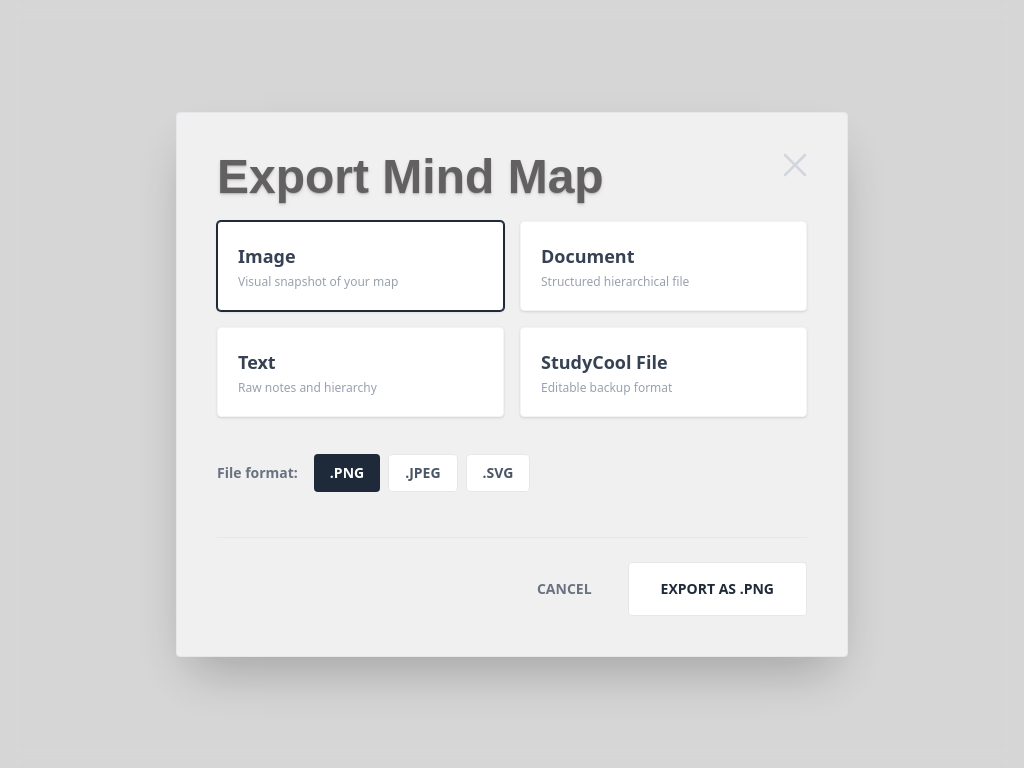
Test: ExportModal Component › switches extension when a different format button is clicked
The image size is (1024, 768).
Click the button ".jpeg".
click(423, 472)  # box x1=388 y1=454 x2=458 y2=492
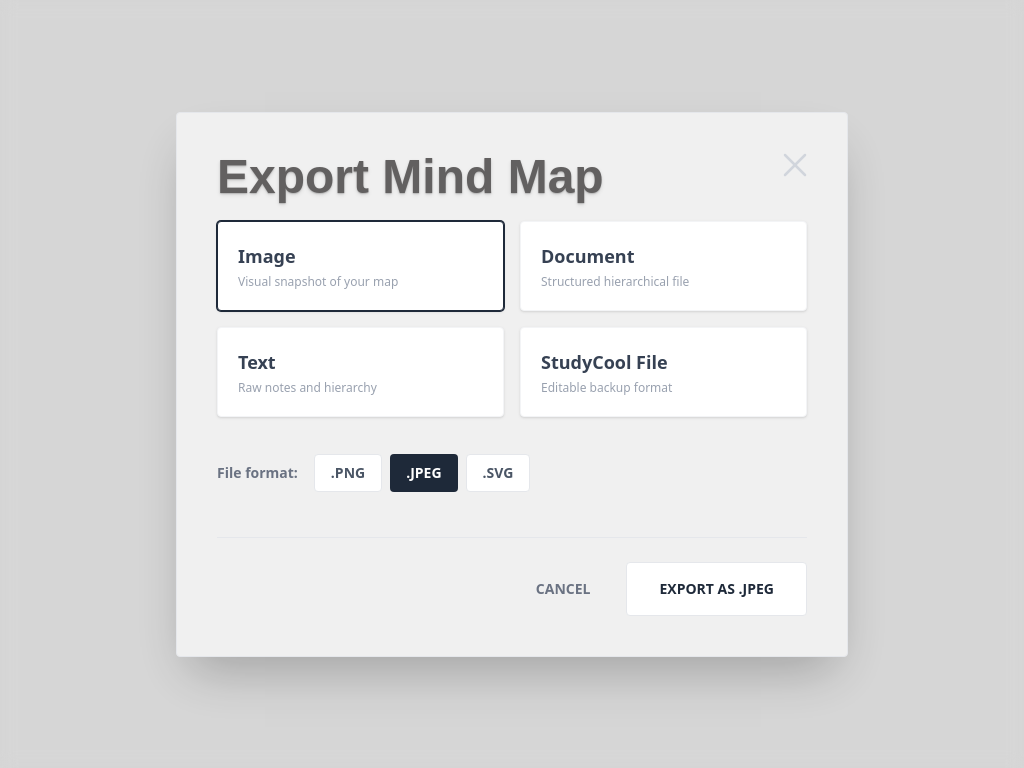
Now the button "Export as .jpeg" is shown, box x1=626 y1=562 x2=807 y2=616
